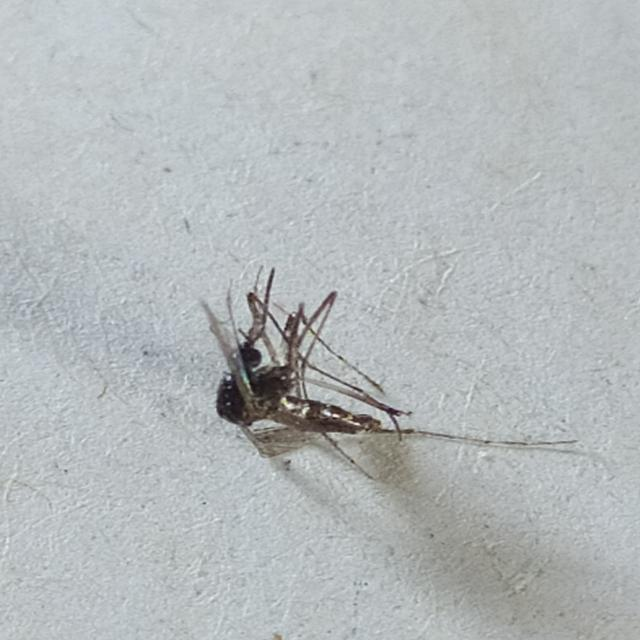albopictus: (176, 255, 548, 494)
